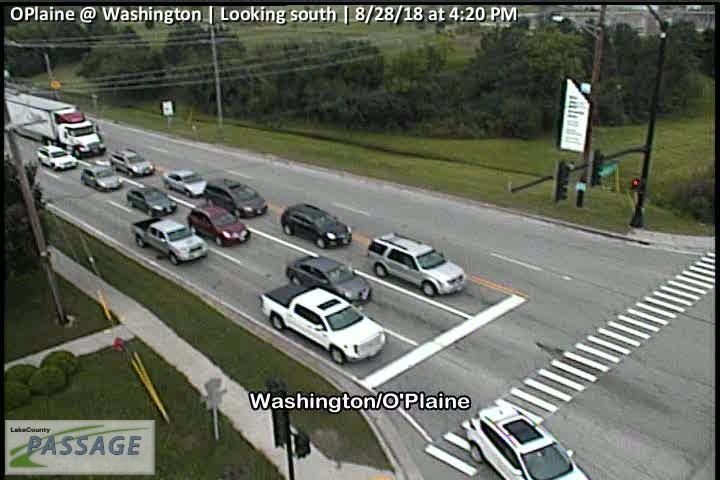SUV: (461, 401, 588, 480), (365, 229, 468, 297), (280, 203, 352, 250), (184, 204, 251, 246), (203, 176, 268, 218), (109, 148, 155, 178), (33, 145, 80, 169)
Sedan: (284, 255, 373, 305), (125, 184, 179, 219), (163, 170, 211, 198), (78, 166, 123, 190)
Truck: (261, 282, 386, 364), (3, 86, 107, 159), (130, 216, 209, 264)
